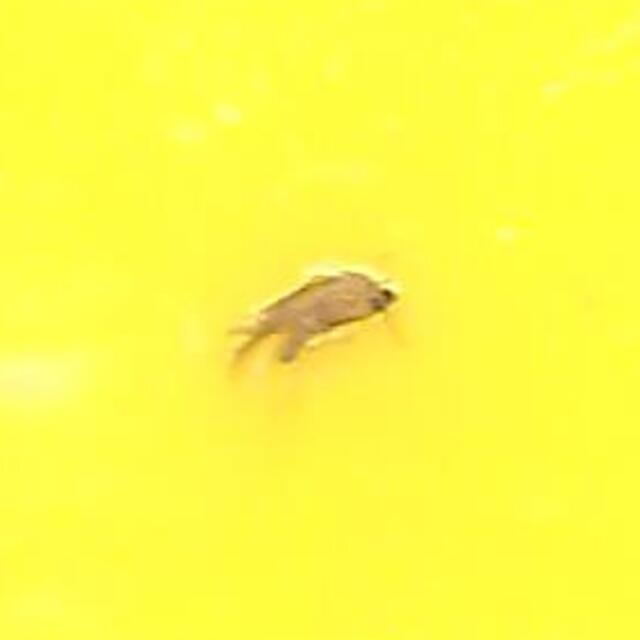Trichoptera: (228, 253, 412, 387)
